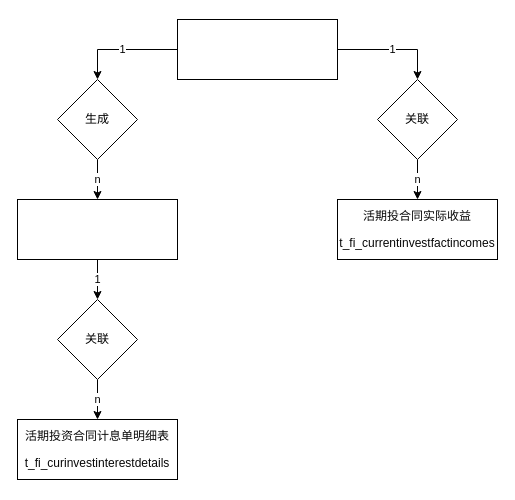
The diagram is 515 pixels wide and 500 high, and some of its shapes have lost their labels. The box of each missing label's shape, as (x1, y1, x2, y2) in pixels:
活期投资合同 t_fi_currentinvestcontract: (176, 18, 338, 80)
活期投资合同计息单表 t_fi_currentinvestinterests: (16, 198, 178, 260)
